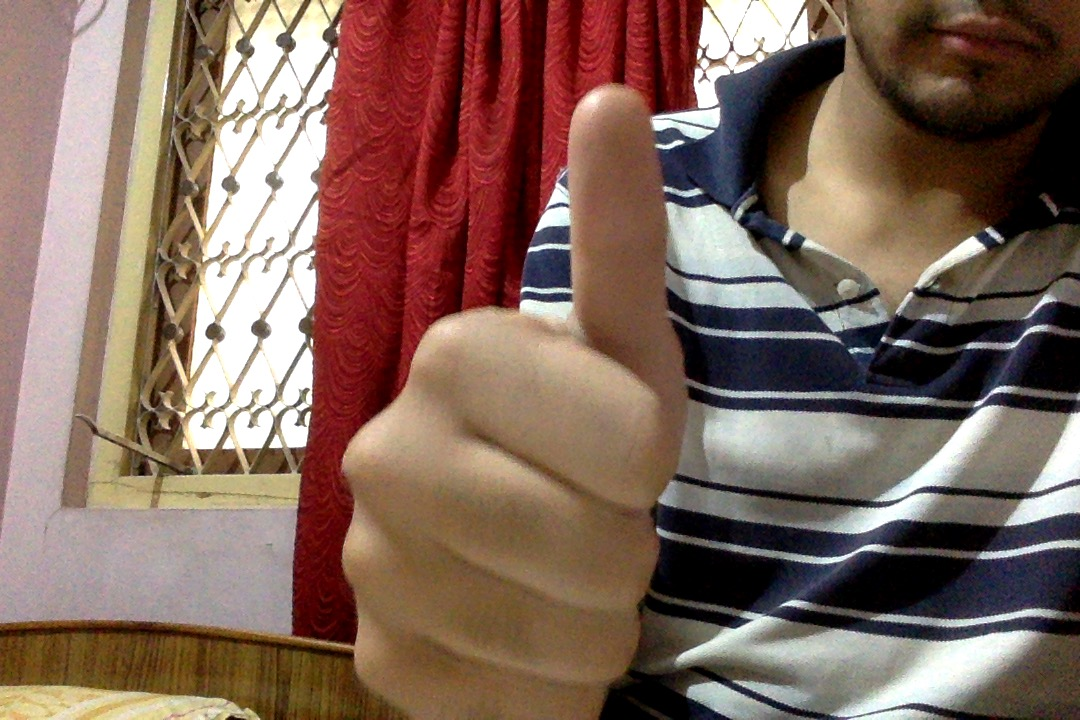hand: (313, 71, 731, 717)
